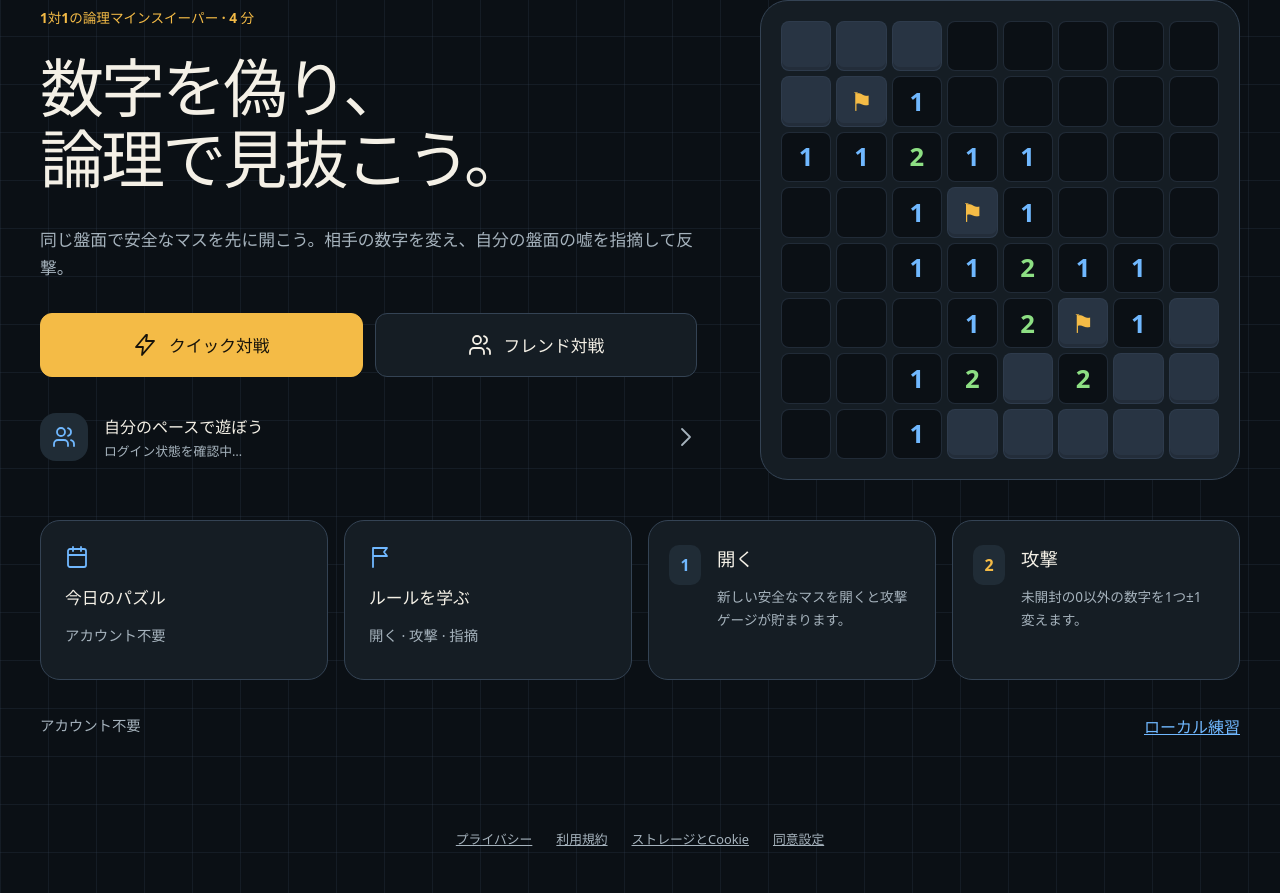
Test case: ja renders each purpose and clearing boundary in its own locale
(page scrolled)
Click the link "ストレージとCookie": click(690, 838) [632,830,749,848]
(page scrolled)
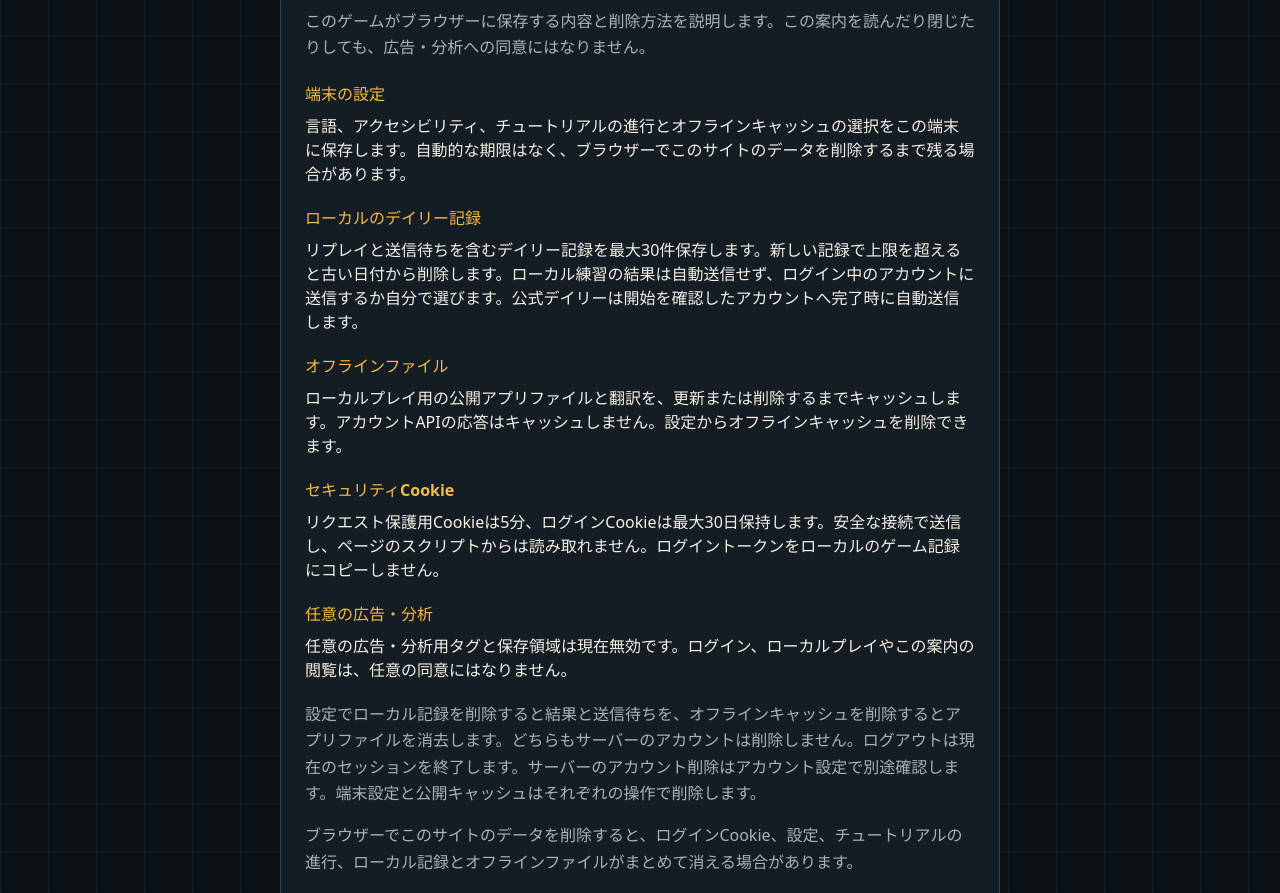
Expected: the text "端末の設定" is shown, [305,83,385,105]
Expected: the text "言語、アクセシビリティ、チュートリアルの進行とオフラインキャッシュの選択をこの端末に保存します。自動的な期限はなく、ブラウザーでこのサイトのデータを削除するまで残る場合があります。" is shown, [305,115,974,185]
Expected: the text "ローカルのデイリー記録" is shown, [305,207,481,229]
